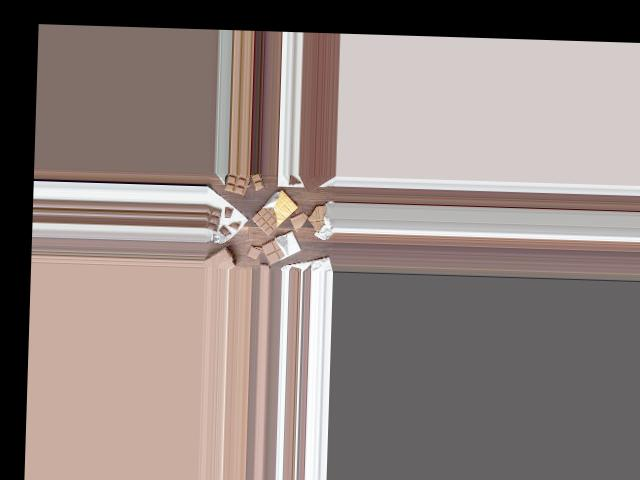chocolate: (261, 229, 299, 268)
